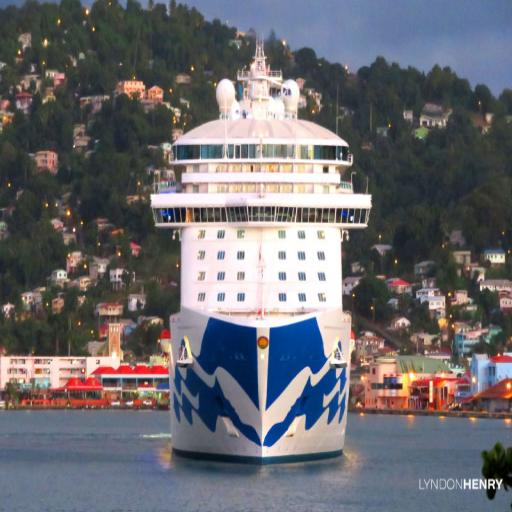cruises: (145, 36, 375, 481)
